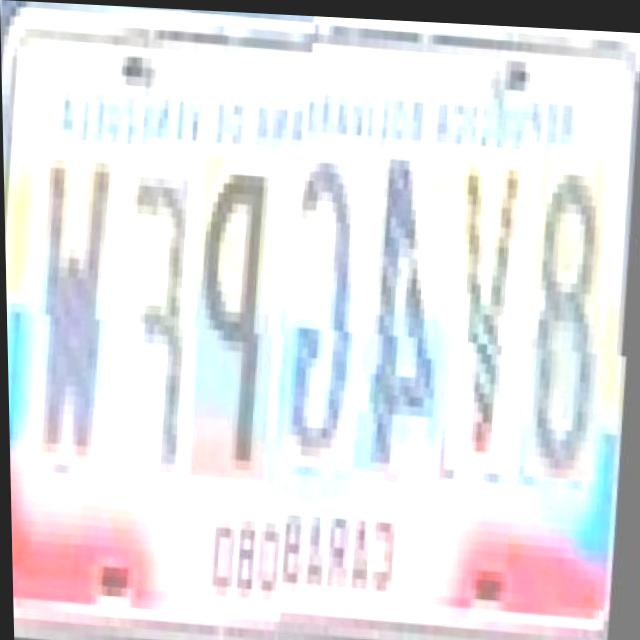4: (349, 154, 458, 485)
8: (518, 156, 617, 486)
f: (106, 156, 208, 486)
g: (270, 149, 372, 479)
p: (186, 152, 288, 483)
v: (439, 151, 538, 481)
w: (27, 151, 129, 471)
